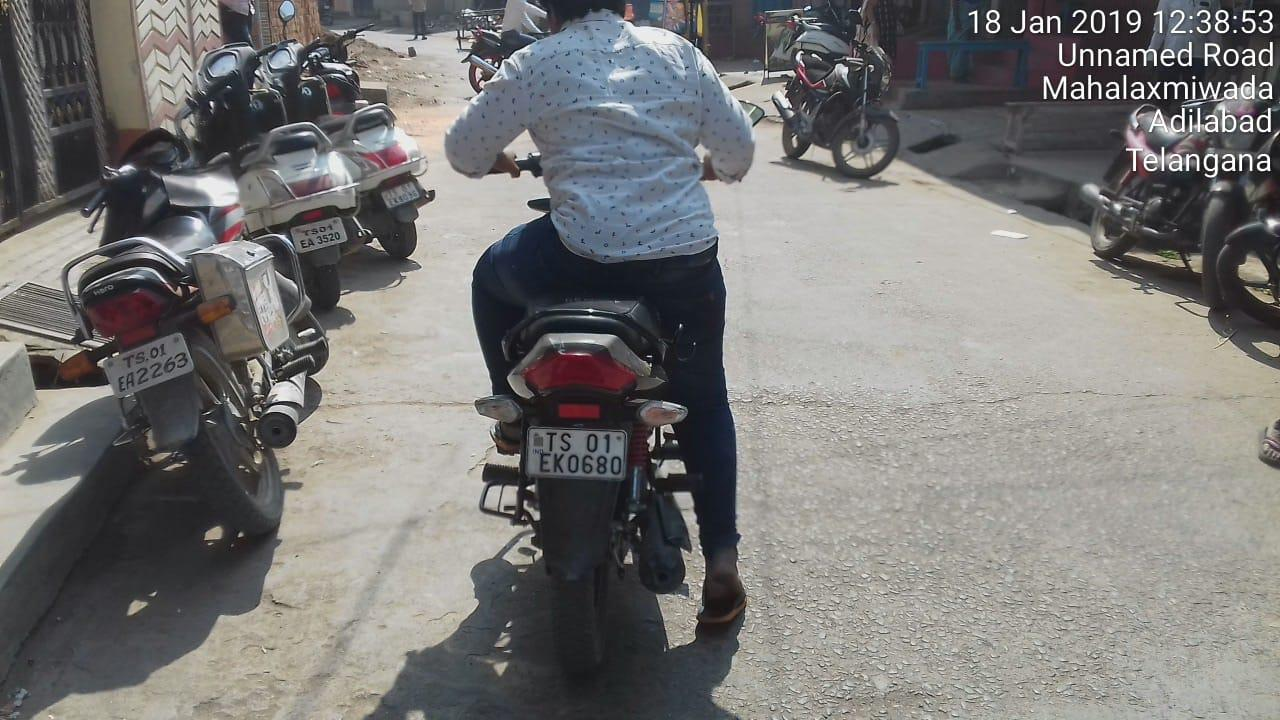plate: (94, 330, 204, 402), (521, 418, 630, 488), (288, 213, 353, 254), (370, 180, 424, 213)
